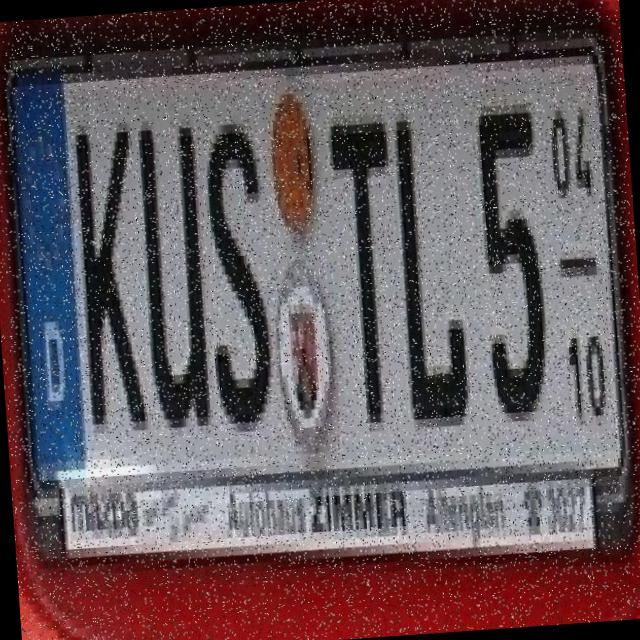LicensePlate: (1, 1, 640, 589)
